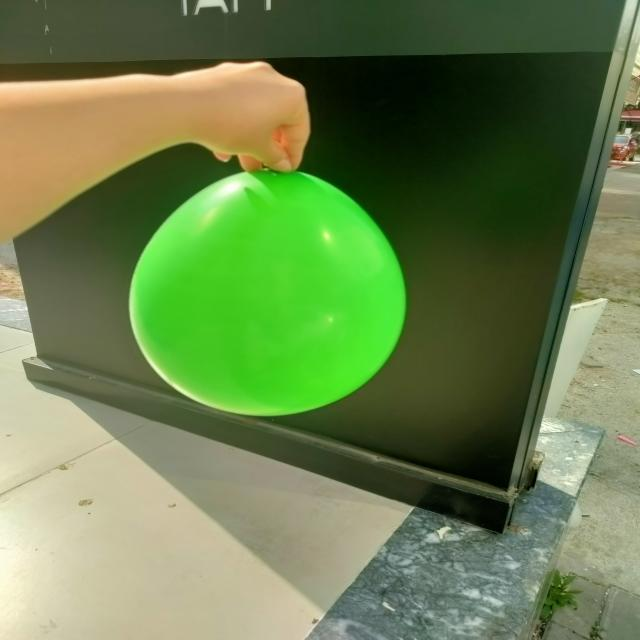green: (132, 172, 407, 418)
